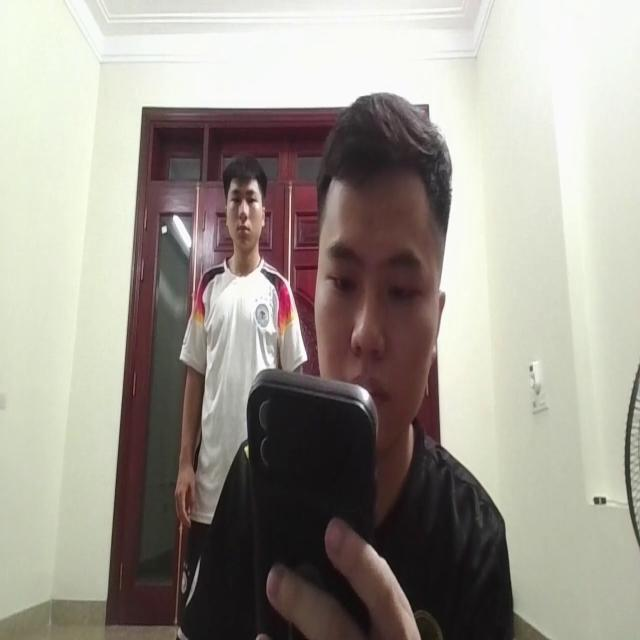extra_person: (175, 133, 299, 504)
phone: (238, 364, 378, 640)
student: (198, 77, 510, 640)
